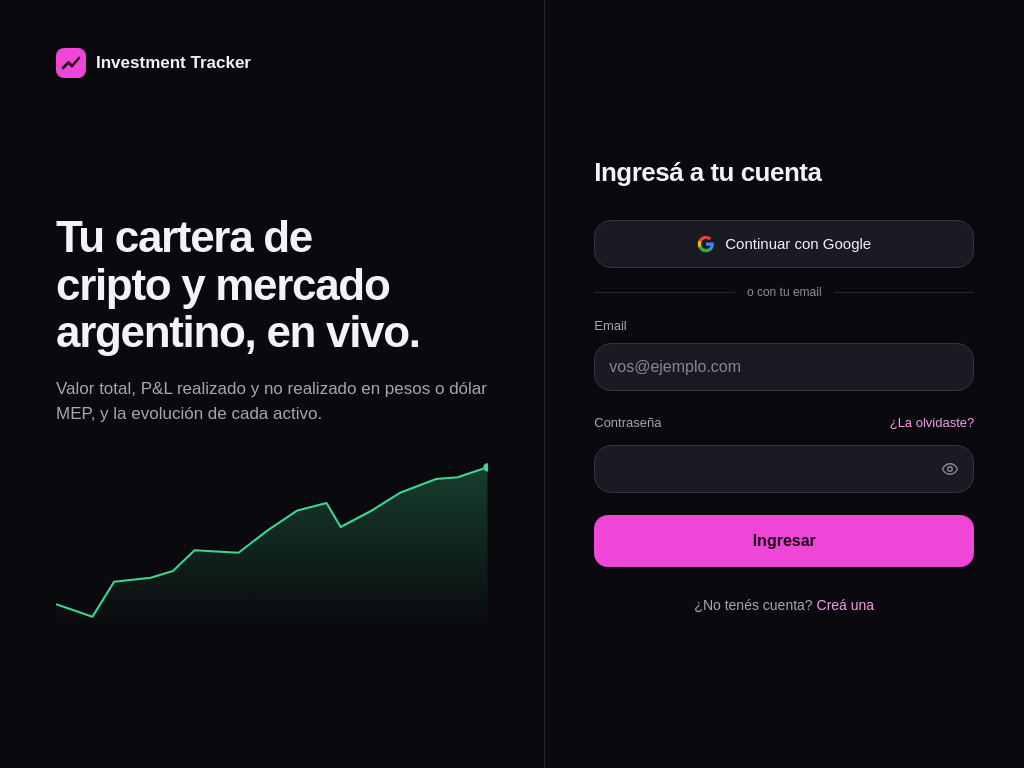
Scenario: /login › adopts the access token and lands on the dashboard
This screenshot has width=1024, height=768.
Expected: the heading "Ingresá a tu cuenta" is shown, [594, 157, 821, 187]
In the field labelled "Email": [784, 366] box [594, 342, 974, 390], type "ana@example.com"
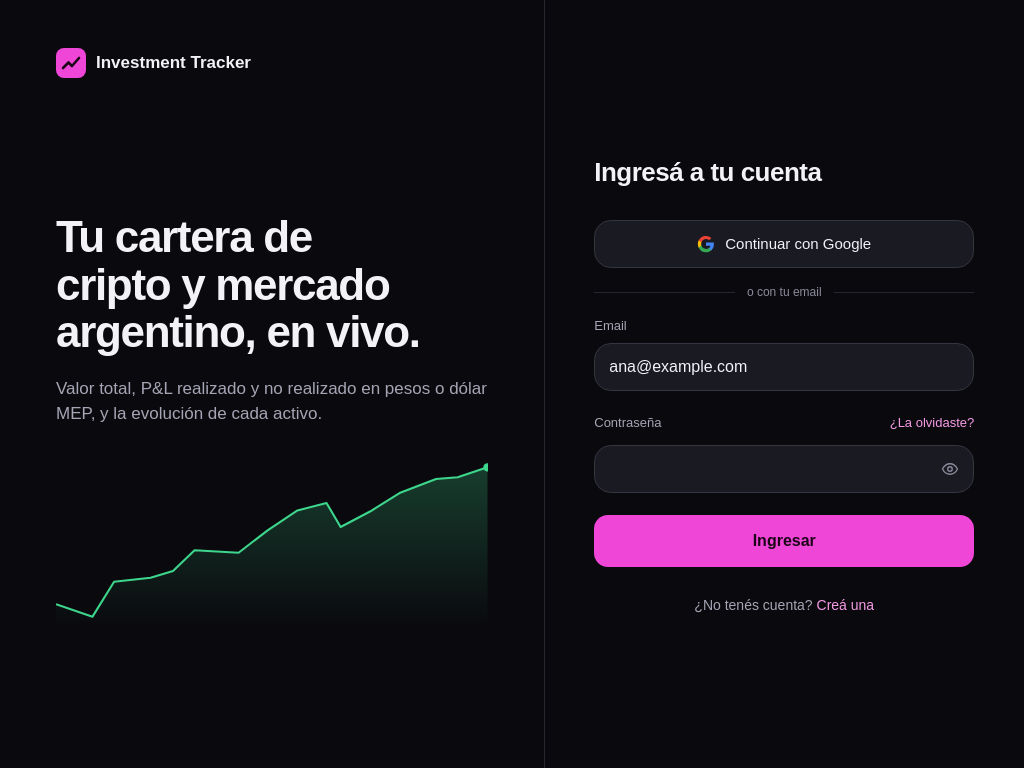
In the password field labelled "Contraseña": [784, 469] box [594, 445, 974, 493], type "correct horse battery"
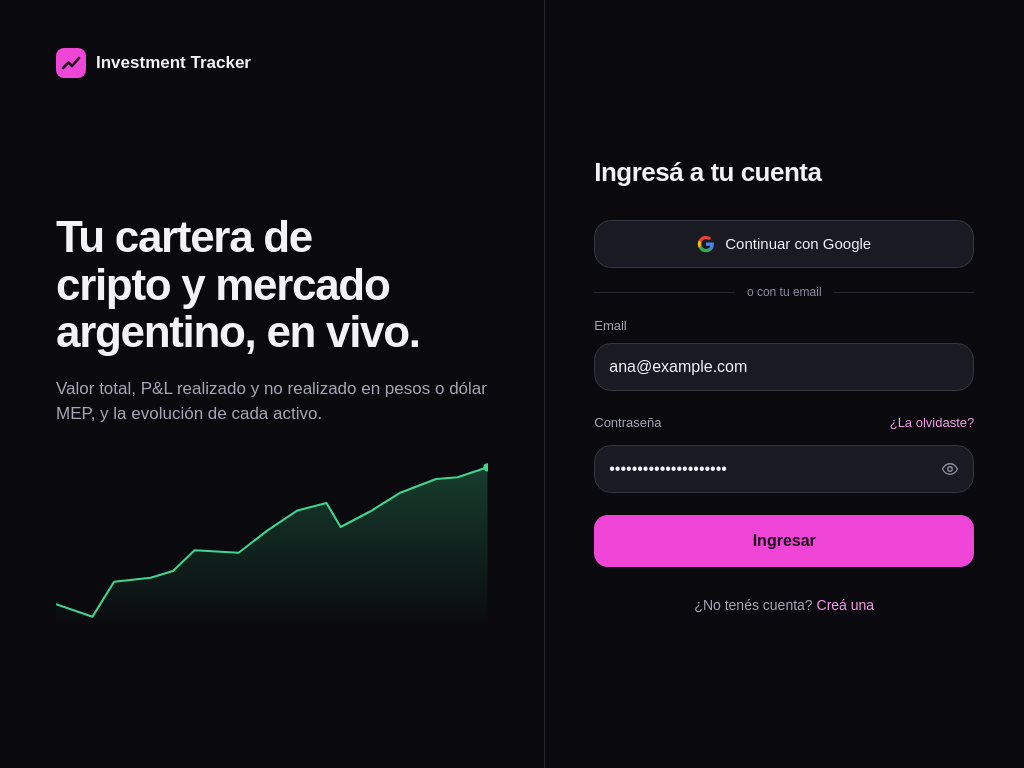
Click the button "Ingresar": [784, 541] box [594, 515, 974, 567]
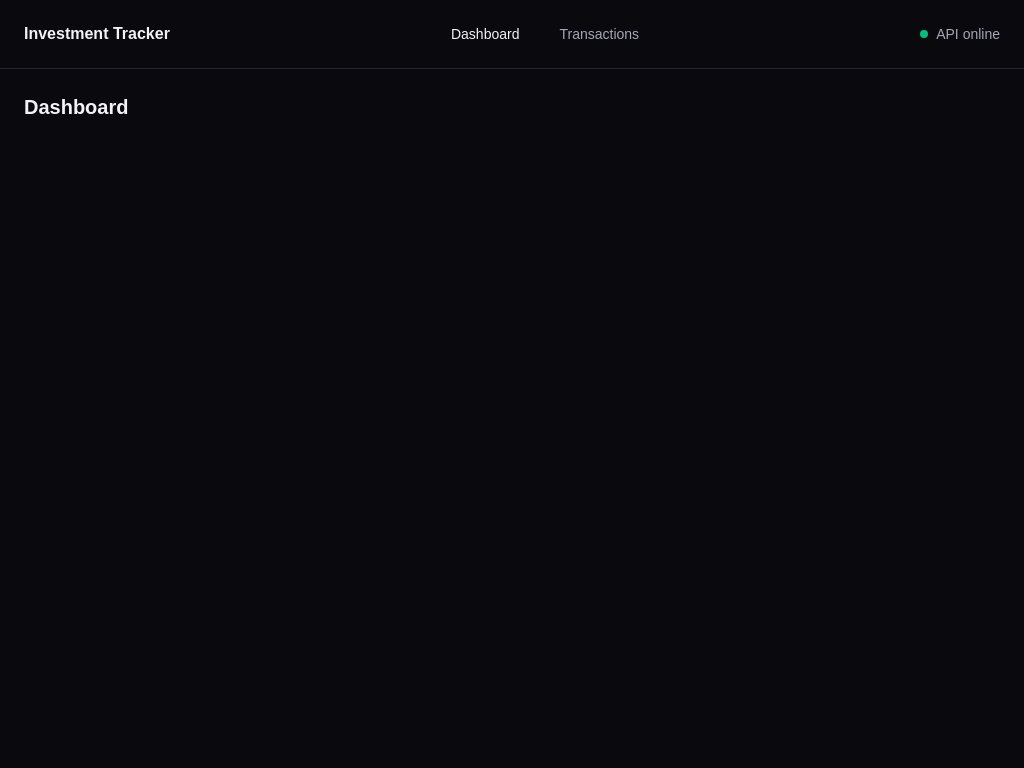
Expected: the heading "Dashboard" is shown, [24, 96, 128, 118]
